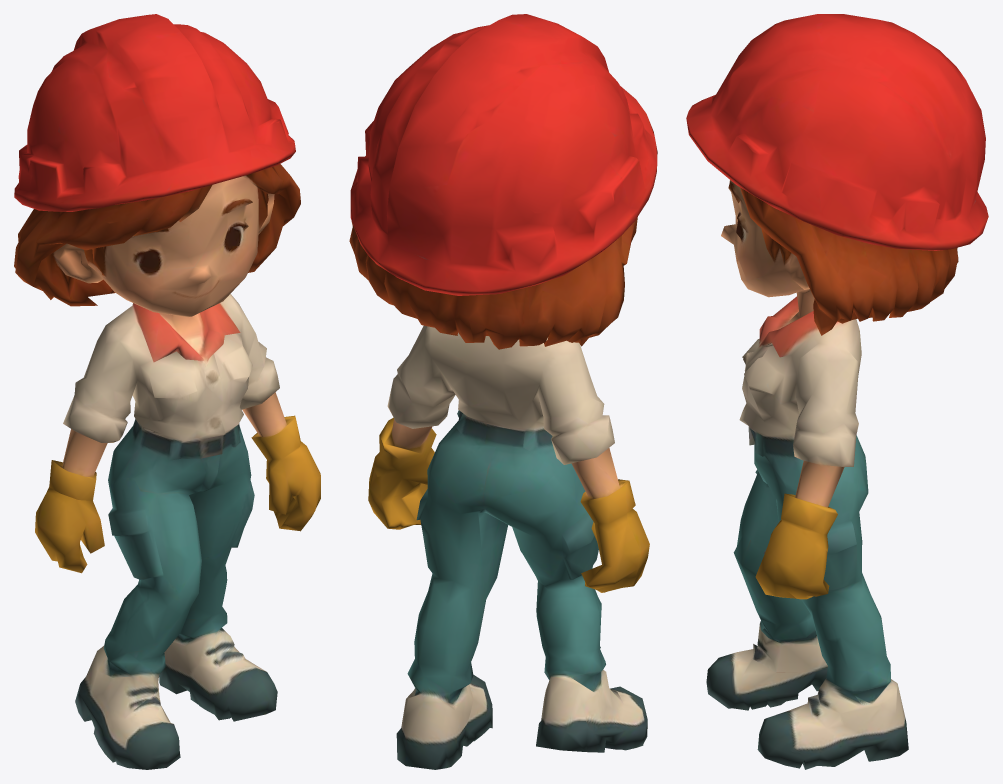
File: factory-worker-inspector.glb
3 views of the same model, side by side, from view 1: azimuth 30°, elevation 25°; view 2: azimuth 150°, elevation 25°; view 3: azimuth 270°, elevation 25° (orthographic). The views are drawn at different scales.
Visible parts, largest first — view 1: factory-worker-inspector; view 2: factory-worker-inspector; view 3: factory-worker-inspector.
Part boxes in pixels (x1=…): factory-worker-inspector: x1=14, y1=14, x2=320, y2=769; factory-worker-inspector: x1=349, y1=14, x2=657, y2=769; factory-worker-inspector: x1=686, y1=14, x2=988, y2=769.
Size of the model in its own units: 0.6454 by 1.6 by 0.629.
1 material, 1 textured.
